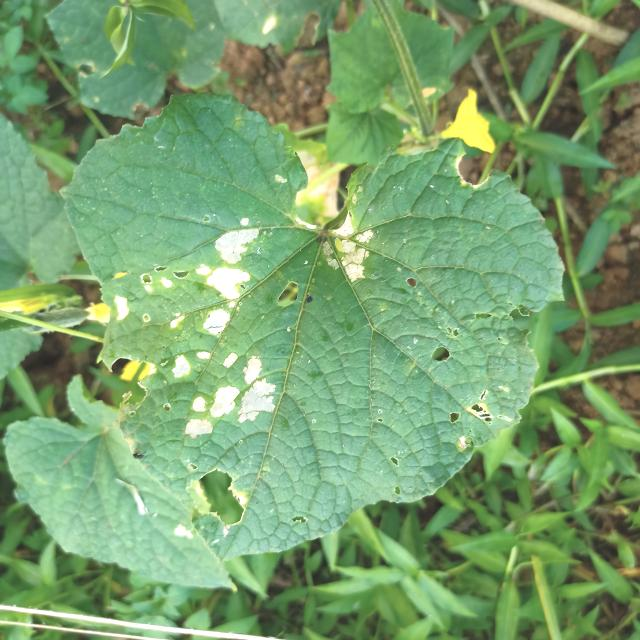disease_cucumber: (104, 213, 273, 351), (150, 351, 286, 457), (316, 206, 391, 292)
